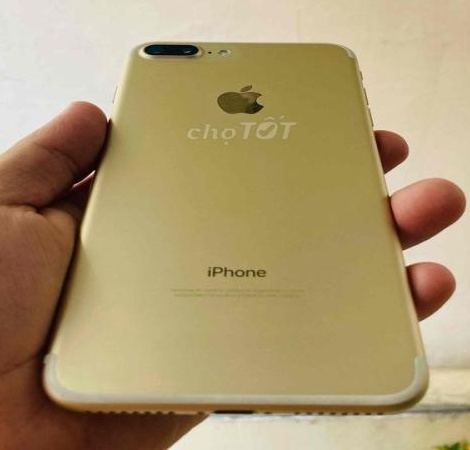scratch: (335, 387, 414, 408), (40, 382, 77, 403)
